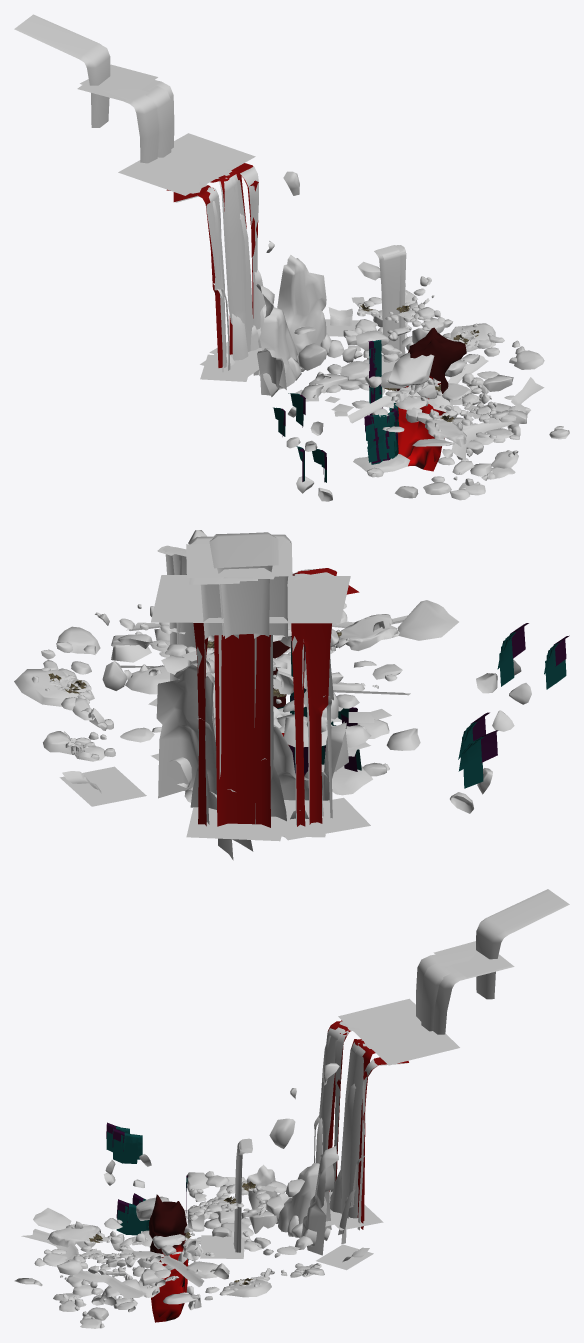
3 renders of one model, top to bottom at view 1: azimuth 30°, elevation 25°; view 2: azimuth 150°, elevation 25°; view 3: azimuth 270°, elevation 25°, orthographic. The views are drawn at different scales.
Parts seen in each view (by area): view 1: m01a04mizu01_1_Group_0_Sub_2__A_taki02, m01a04iwa02_1_Group_0_Sub_6__B_m01_iwa33_02, m01a04mizu01_1_Group_0_Sub_3__A_mizu03, m01a04iwa04_1_Group_0_Sub_4__B_m01_iwa33_01, m01a04iwa01_1_Group_0_Sub_2__B_VBlend26, m01a04iwa03_1_Group_0_Sub_1__B_iwa01_mos_A, m01a04iwa04_1_Group_0_Sub_1__N_tuta02, m01a04iwa05_1_Group_0_Sub_1__B_m01_iwa33_01, m01a04iwa04_1_Group_0_Sub_5__B_iwa01_mos_A1, m01a04mizu03_1_Group_0_Sub_3__A_taki02_02, m01a04mizu04_1_Group_0_Sub_1__A_mizu03, m01a04mizu01_1_Group_0_Sub_4__A_taki01 (+8 smaller); view 2: m01a04mizu01_1_Group_0_Sub_4__A_taki01, m01a04mizu01_1_Group_0_Sub_2__A_taki02, m01a04iwa02_1_Group_0_Sub_6__B_m01_iwa33_02, m01a04mizu01_1_Group_0_Sub_3__A_mizu03, m01a04mizu01_1_Group_0_Sub_1__A_mizu02, m01a04iwa02_1_Group_0_Sub_8__B_iwa01_mos, m01a04iwa04_1_Group_0_Sub_4__B_m01_iwa33_01, m01a04iwa04_1_Group_0_Sub_1__N_tuta02, m01a04iwa03_1_Group_0_Sub_1__B_iwa01_mos_A, m01a04iwa05_1_Group_0_Sub_1__B_m01_iwa33_01, m01a04iwa02_1_Group_0_Sub_4__B_m01_iwa33_01, m01a04iwa02_1_Group_0_Sub_9__N_tuta02 (+8 smaller); view 3: m01a04mizu01_1_Group_0_Sub_2__A_taki02, m01a04mizu01_1_Group_0_Sub_3__A_mizu03, m01a04iwa02_1_Group_0_Sub_6__B_m01_iwa33_02, m01a04iwa03_1_Group_0_Sub_1__B_iwa01_mos_A, m01a04iwa01_1_Group_0_Sub_2__B_VBlend26, m01a04iwa04_1_Group_0_Sub_4__B_m01_iwa33_01, m01a04iwa05_1_Group_0_Sub_1__B_m01_iwa33_01, m01a04iwa04_1_Group_0_Sub_5__B_iwa01_mos_A1, m01a04iwa02_1_Group_0_Sub_8__B_iwa01_mos, m01a04mizu01_1_Group_0_Sub_4__A_taki01, m01a04mizu04_1_Group_0_Sub_1__A_mizu03, m01a04_1_Group_0_Sub_1__B_iwa01_mos (+8 smaller).
Boxes of the visible parts, bbox=[...] form: m01a04mizu01_1_Group_0_Sub_2__A_taki02: bbox=[14, 14, 352, 375]; m01a04iwa02_1_Group_0_Sub_6__B_m01_iwa33_02: bbox=[256, 171, 326, 396]; m01a04mizu01_1_Group_0_Sub_3__A_mizu03: bbox=[77, 64, 255, 195]; m01a04iwa04_1_Group_0_Sub_4__B_m01_iwa33_01: bbox=[296, 297, 515, 501]; m01a04iwa01_1_Group_0_Sub_2__B_VBlend26: bbox=[390, 327, 466, 471]; m01a04iwa03_1_Group_0_Sub_1__B_iwa01_mos_A: bbox=[294, 261, 462, 457]; m01a04iwa04_1_Group_0_Sub_1__N_tuta02: bbox=[296, 340, 399, 482]; m01a04iwa05_1_Group_0_Sub_1__B_m01_iwa33_01: bbox=[301, 350, 527, 423]; m01a04iwa04_1_Group_0_Sub_5__B_iwa01_mos_A1: bbox=[355, 276, 530, 454]; m01a04mizu03_1_Group_0_Sub_3__A_taki02_02: bbox=[374, 245, 406, 362]; m01a04mizu04_1_Group_0_Sub_1__A_mizu03: bbox=[347, 355, 544, 459]; m01a04mizu01_1_Group_0_Sub_4__A_taki01: bbox=[166, 163, 258, 367]; m01a04mizu01_1_Group_0_Sub_4__A_taki01: bbox=[193, 568, 359, 827]; m01a04mizu01_1_Group_0_Sub_2__A_taki02: bbox=[62, 532, 333, 860]; m01a04iwa02_1_Group_0_Sub_6__B_m01_iwa33_02: bbox=[156, 530, 348, 800]; m01a04mizu01_1_Group_0_Sub_3__A_mizu03: bbox=[151, 542, 350, 623]; m01a04mizu01_1_Group_0_Sub_1__A_mizu02: bbox=[59, 766, 370, 841]; m01a04iwa02_1_Group_0_Sub_8__B_iwa01_mos: bbox=[14, 600, 458, 754]; m01a04iwa04_1_Group_0_Sub_4__B_m01_iwa33_01: bbox=[156, 625, 492, 813]; m01a04iwa04_1_Group_0_Sub_1__N_tuta02: bbox=[277, 636, 498, 788]; m01a04iwa03_1_Group_0_Sub_1__B_iwa01_mos_A: bbox=[111, 634, 376, 719]; m01a04iwa05_1_Group_0_Sub_1__B_m01_iwa33_01: bbox=[120, 665, 371, 747]; m01a04iwa02_1_Group_0_Sub_4__B_m01_iwa33_01: bbox=[43, 610, 402, 761]; m01a04iwa02_1_Group_0_Sub_9__N_tuta02: bbox=[497, 623, 569, 689]; m01a04mizu01_1_Group_0_Sub_2__A_taki02: bbox=[314, 889, 569, 1261]; m01a04mizu01_1_Group_0_Sub_3__A_mizu03: bbox=[338, 941, 511, 1065]; m01a04iwa02_1_Group_0_Sub_6__B_m01_iwa33_02: bbox=[246, 1063, 339, 1255]; m01a04iwa03_1_Group_0_Sub_1__B_iwa01_mos_A: bbox=[88, 1177, 304, 1276]; m01a04iwa01_1_Group_0_Sub_2__B_VBlend26: bbox=[149, 1194, 188, 1322]; m01a04iwa04_1_Group_0_Sub_4__B_m01_iwa33_01: bbox=[59, 1181, 270, 1328]; m01a04iwa05_1_Group_0_Sub_1__B_m01_iwa33_01: bbox=[57, 1198, 296, 1278]; m01a04iwa04_1_Group_0_Sub_5__B_iwa01_mos_A1: bbox=[104, 1171, 266, 1309]; m01a04iwa02_1_Group_0_Sub_8__B_iwa01_mos: bbox=[33, 1208, 311, 1304]; m01a04mizu01_1_Group_0_Sub_4__A_taki01: bbox=[327, 1020, 408, 1229]; m01a04mizu04_1_Group_0_Sub_1__A_mizu03: bbox=[21, 1229, 204, 1298]; m01a04_1_Group_0_Sub_1__B_iwa01_mos: bbox=[47, 1224, 214, 1264].
Size of the model in its own units: 14383 by 14225 by 21492.
